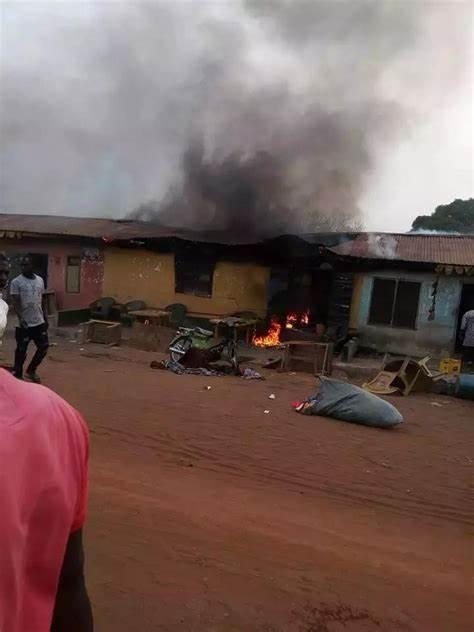fire: (249, 323, 285, 347), (287, 314, 311, 325)
smoke: (130, 61, 416, 224), (244, 0, 423, 47)
